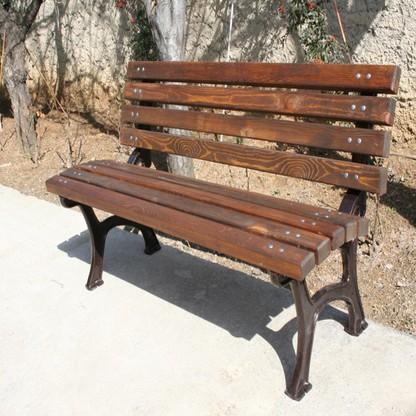obstacle: (30, 47, 407, 401)
